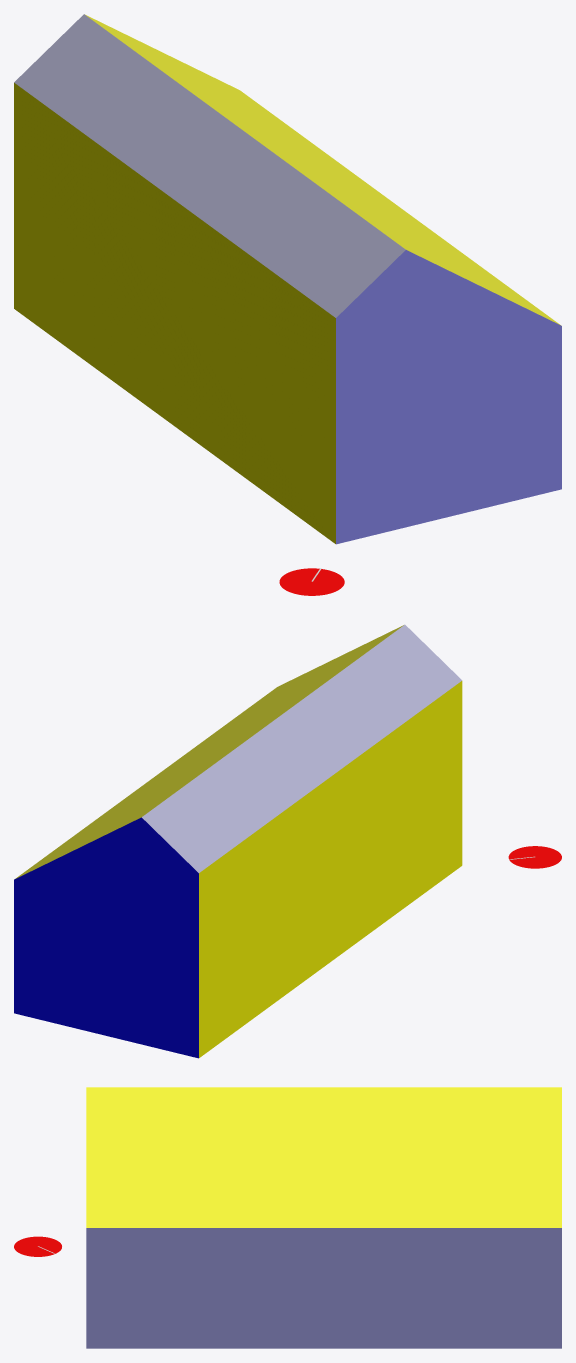
File: result.glb
3 views of the same model, one above another, from view 1: azimuth 30°, elevation 25°; view 2: azimuth 150°, elevation 25°; view 3: azimuth 270°, elevation 25° (orthographic). The views are drawn at different scales.
Visible parts, largest first — view 1: f3879dc1-6a4a-4b9e-a332-b5be36d9bee0__undefined, 8fc9fca7-0b79-4d6a-8c5d-a30d949d4e3e__undefined, 6f8962fa-058f-4407-84a4-1ff3a74bf50b__undefined, ede67183-0786-4dc2-965a-3079838f95c5__undefined, 16c21177-9952-4414-ba22-5aeeac509c60__Circle; view 2: f3879dc1-6a4a-4b9e-a332-b5be36d9bee0__undefined, 9bdb836f-9bb5-4e73-a5d3-73b14a4b99b4__undefined, 6f8962fa-058f-4407-84a4-1ff3a74bf50b__undefined, ede67183-0786-4dc2-965a-3079838f95c5__undefined, 16c21177-9952-4414-ba22-5aeeac509c60__Circle; view 3: ede67183-0786-4dc2-965a-3079838f95c5__undefined, 3770cc7a-484e-4fa0-8710-6653e81ff618__undefined, 16c21177-9952-4414-ba22-5aeeac509c60__Circle.
Boxes of the visible parts, x1,y1,x2,y2 form: f3879dc1-6a4a-4b9e-a332-b5be36d9bee0__undefined: [14, 83, 335, 543]; 8fc9fca7-0b79-4d6a-8c5d-a30d949d4e3e__undefined: [336, 250, 561, 544]; 6f8962fa-058f-4407-84a4-1ff3a74bf50b__undefined: [14, 14, 405, 317]; ede67183-0786-4dc2-965a-3079838f95c5__undefined: [85, 14, 560, 325]; 16c21177-9952-4414-ba22-5aeeac509c60__Circle: [279, 568, 344, 595]; f3879dc1-6a4a-4b9e-a332-b5be36d9bee0__undefined: [199, 681, 462, 1057]; 9bdb836f-9bb5-4e73-a5d3-73b14a4b99b4__undefined: [14, 817, 198, 1058]; 6f8962fa-058f-4407-84a4-1ff3a74bf50b__undefined: [142, 625, 461, 872]; ede67183-0786-4dc2-965a-3079838f95c5__undefined: [15, 625, 403, 878]; 16c21177-9952-4414-ba22-5aeeac509c60__Circle: [508, 846, 561, 868]; ede67183-0786-4dc2-965a-3079838f95c5__undefined: [86, 1087, 561, 1227]; 3770cc7a-484e-4fa0-8710-6653e81ff618__undefined: [86, 1228, 561, 1348]; 16c21177-9952-4414-ba22-5aeeac509c60__Circle: [14, 1236, 61, 1256].
Size of the model in its own units: 550 by 469 by 1137.
